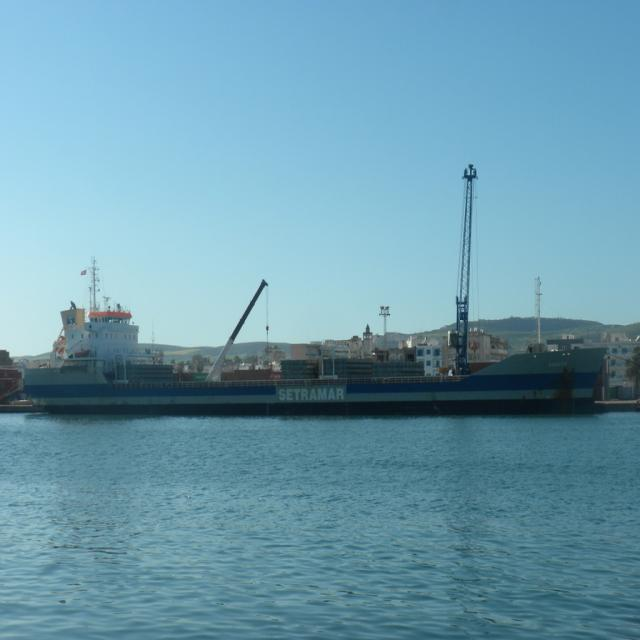Boat: (30, 170, 623, 424)
